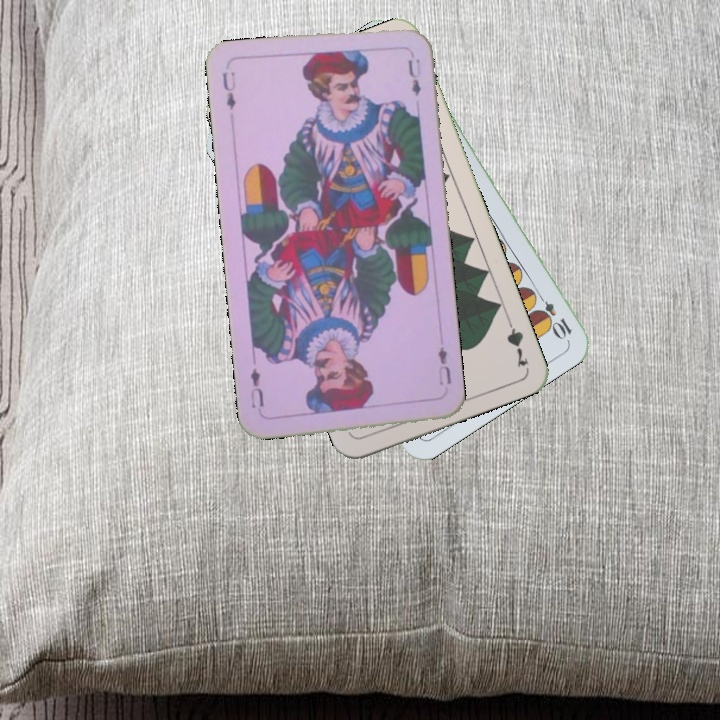E10: (531, 288, 575, 342)
EU: (434, 343, 454, 388), (218, 68, 238, 113)
G7: (502, 312, 532, 370)
